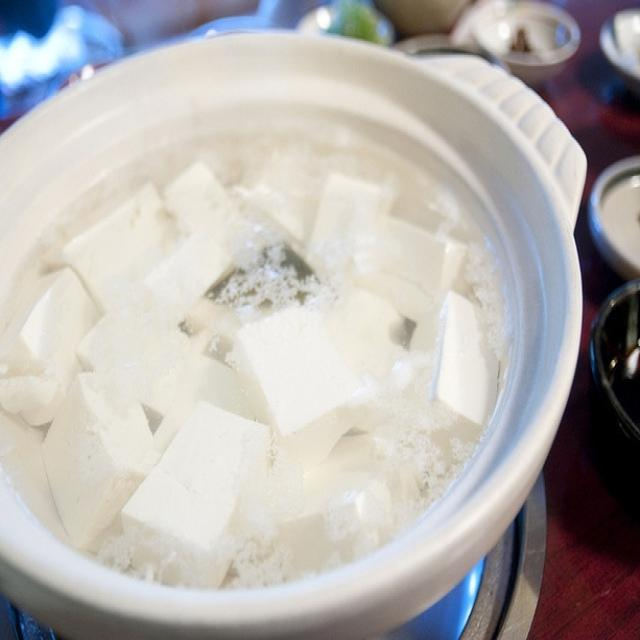豆腐料理: (22, 50, 586, 610)
